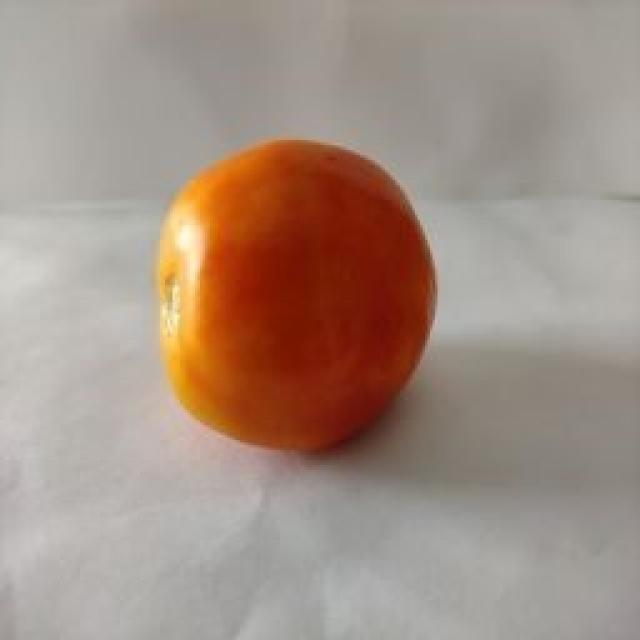Ripe: (152, 140, 444, 456)
